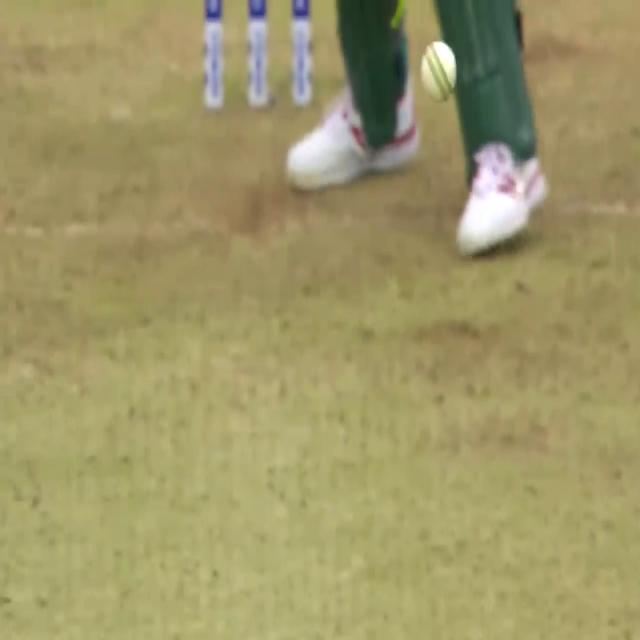ball: (413, 30, 468, 111)
